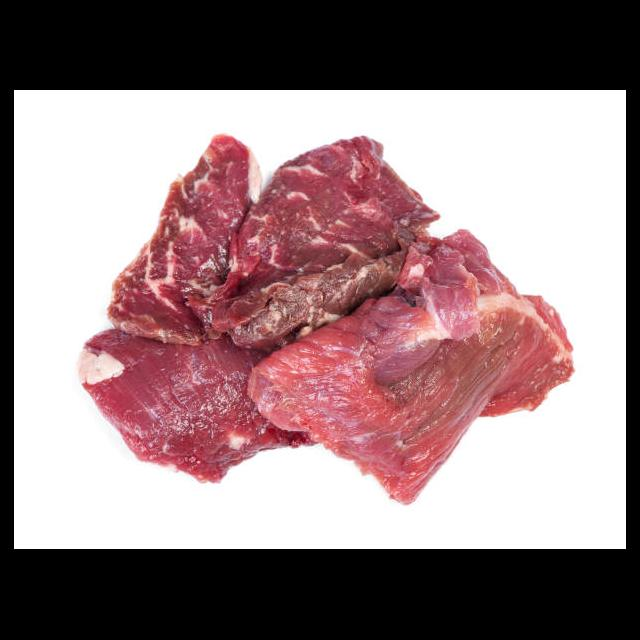beef: (78, 130, 577, 506)
